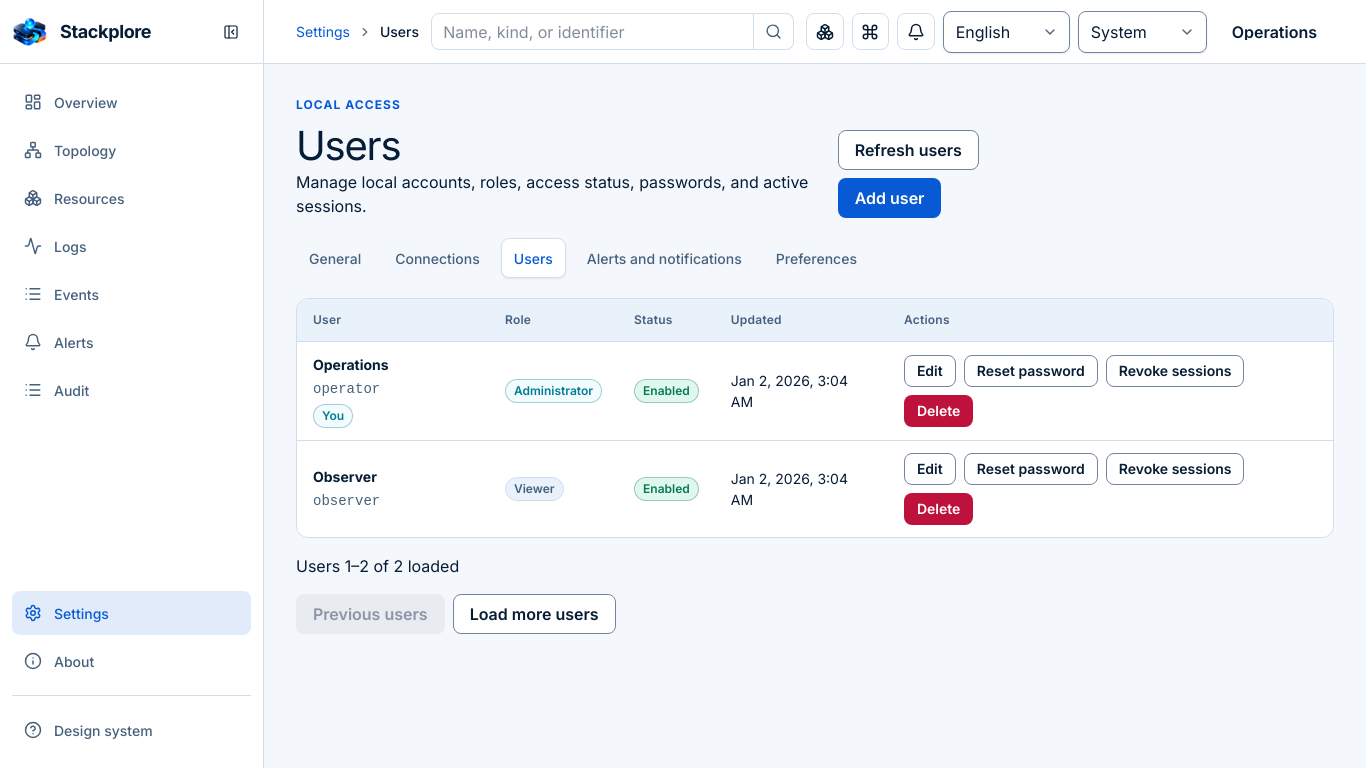
Test case: user administration flow › keeps the current window after a failed next request and retries from the same cursor
Check: the text "Observer" is shown, box 313,466 -> 377,487
Click the button "Load more users" at (534, 614), box 453,594 -> 616,634
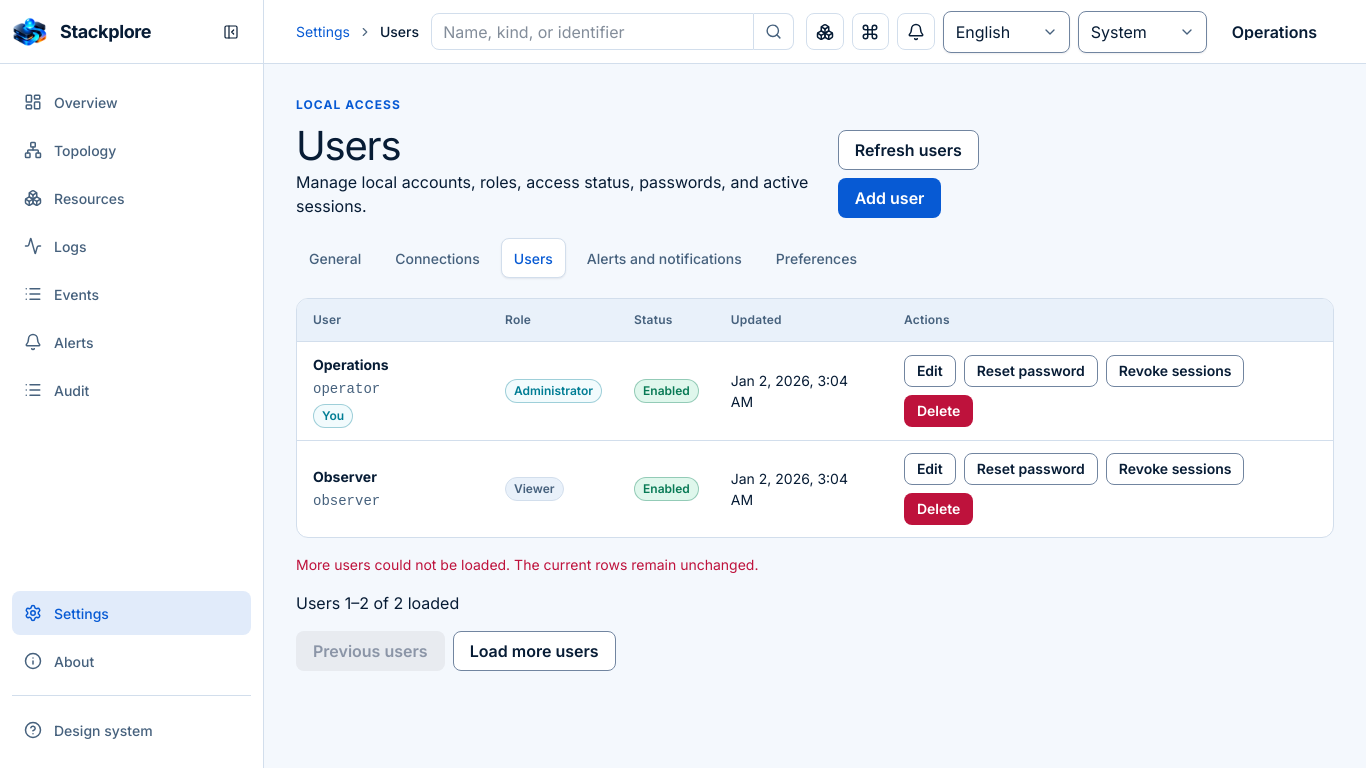
Check: the text "Observer" is shown, box 313,466 -> 377,487
Check: the text "More users could not be loaded. The current rows remain unchanged." is shown, box 296,556 -> 758,573
Click the button "Load more users" at (534, 651), box 453,631 -> 616,671
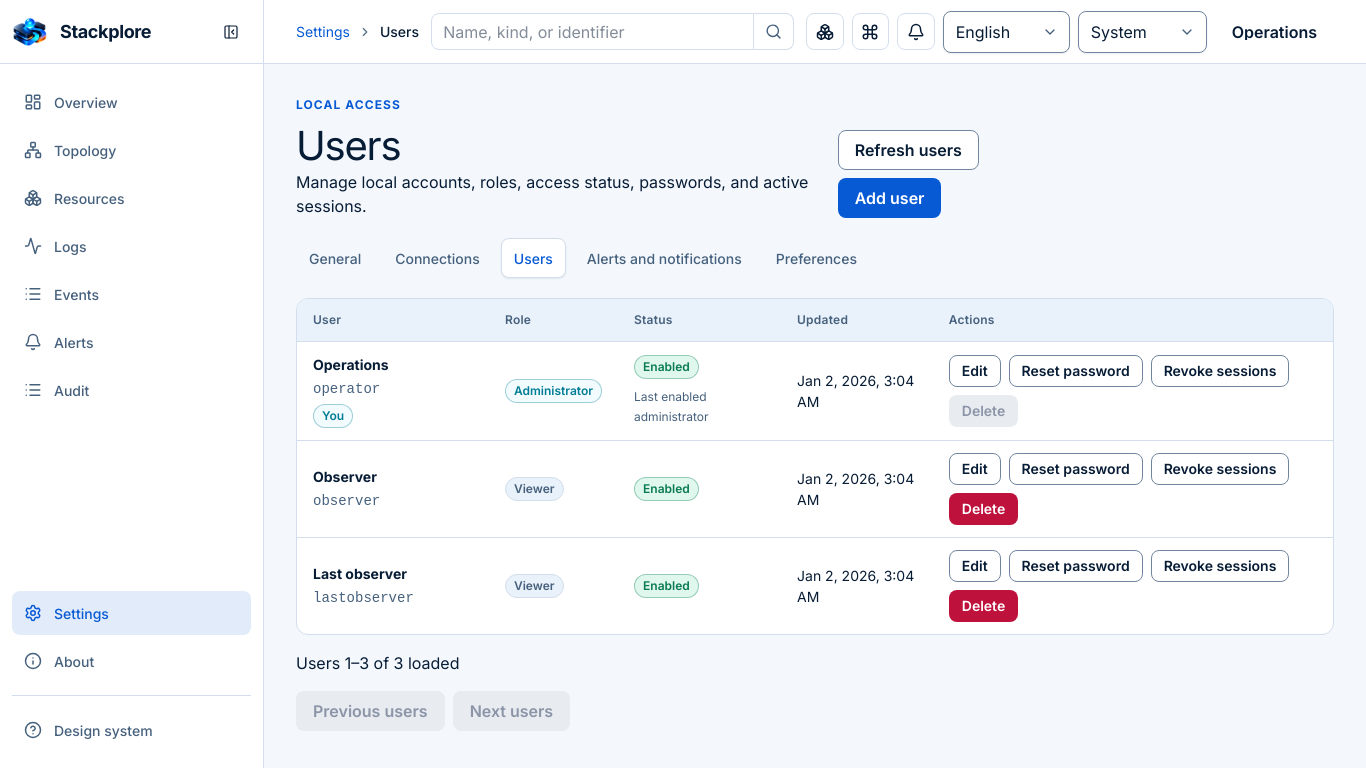
Check: the text "Last observer" is shown, box 313,563 -> 407,584
Check: the text "More users could not be loaded. The current rows remain unchanged." is gone
